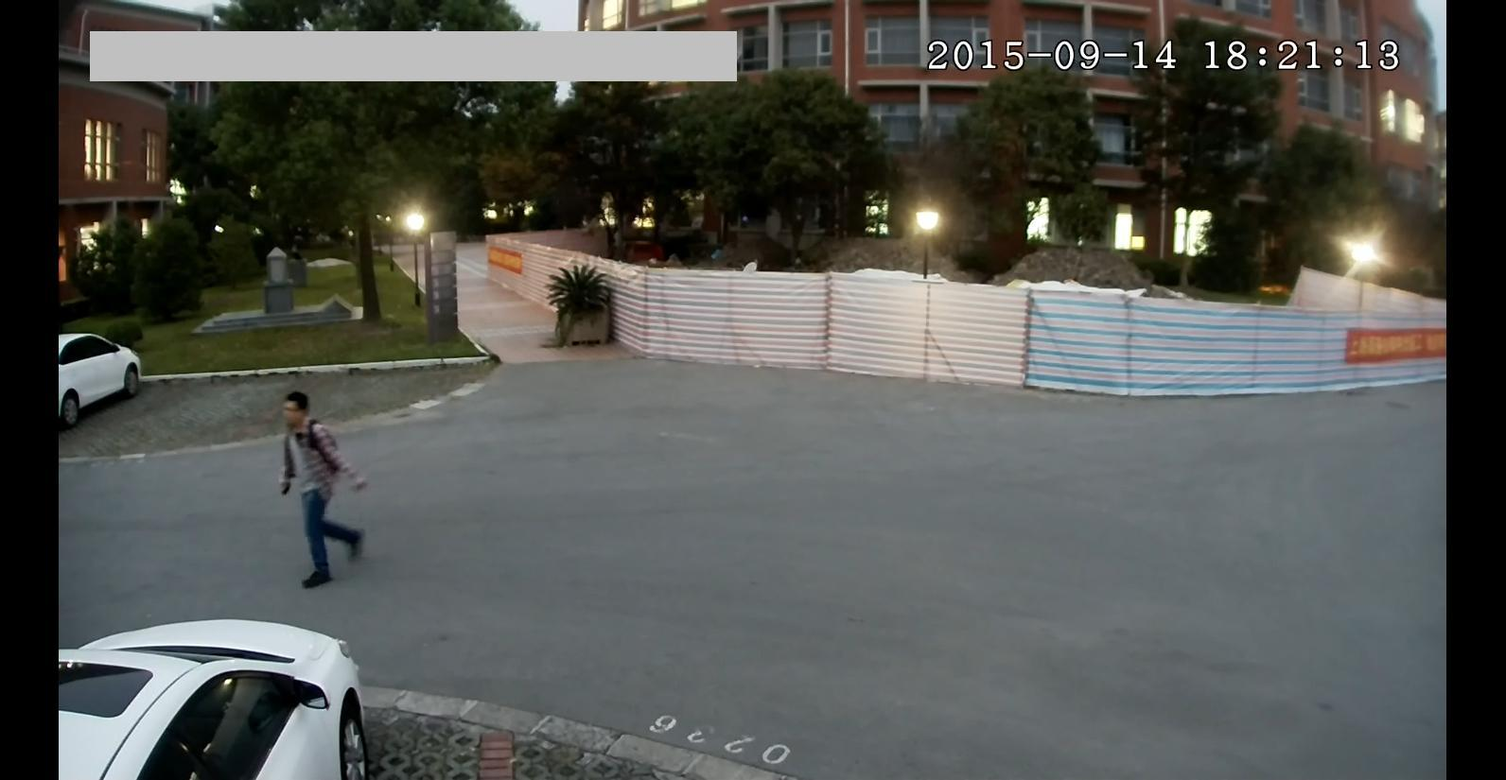person: (270, 388, 371, 598)
